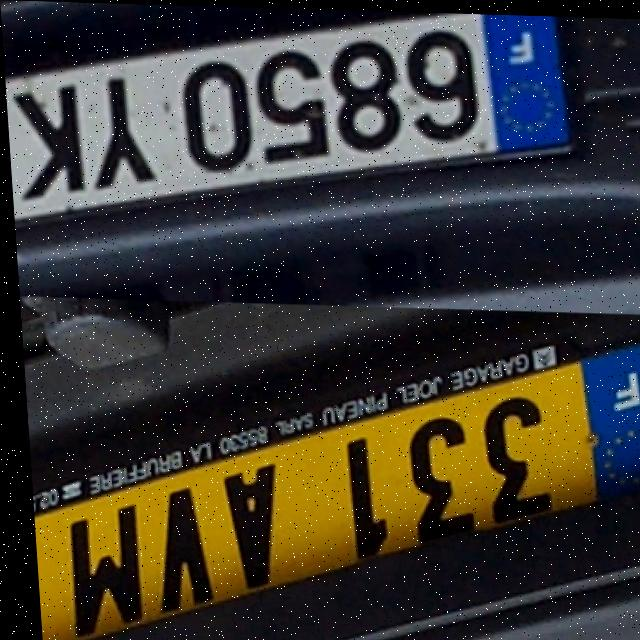plate: (17, 323, 640, 640), (0, 0, 574, 254)
